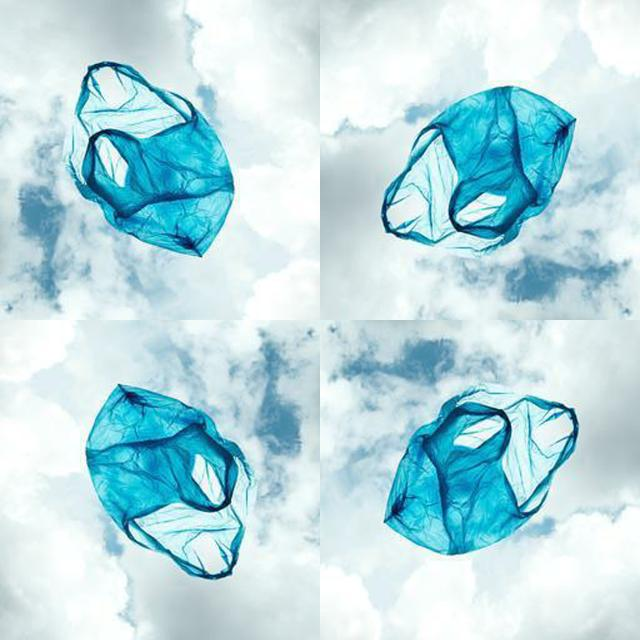Single-layer Plastic: (384, 384, 579, 555), (65, 61, 234, 256), (381, 86, 576, 252), (86, 384, 250, 579)
